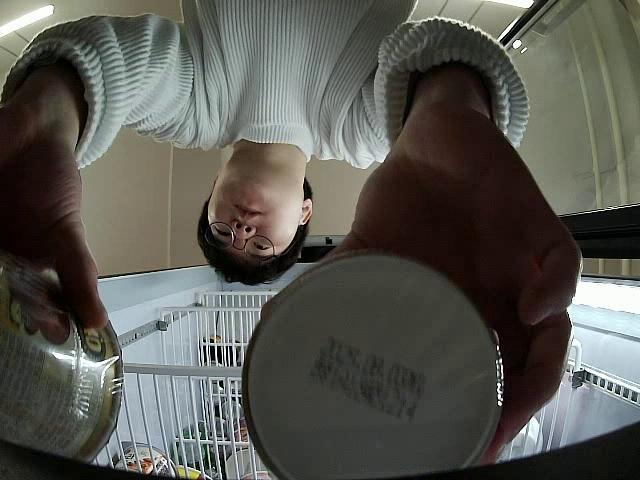00_hand: (259, 149, 585, 466), (0, 104, 109, 329)
04_chapagetti_S: (241, 251, 500, 480), (0, 255, 123, 463)
